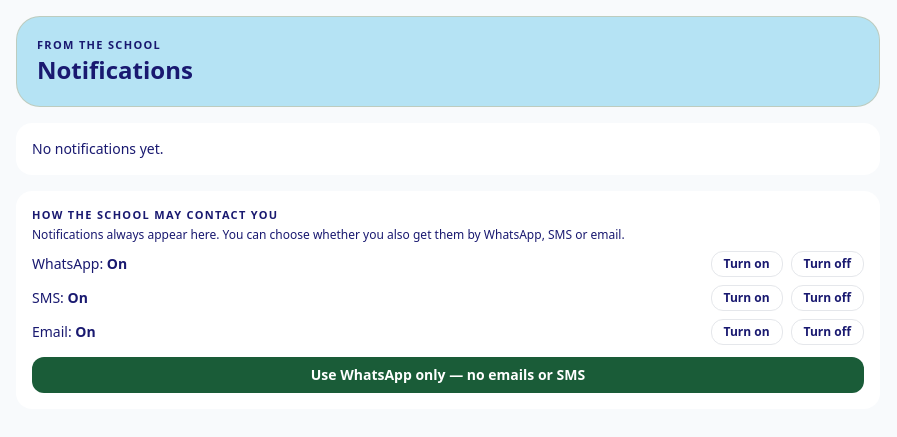
Scenario: a parent can choose WhatsApp only, and the page stays readable
The image size is (897, 437).
What coordinates should you click on to do the following:
click the button "Use WhatsApp only — no emails or SMS"
I would click on:
 (448, 375)
Its box is x1=32 y1=357 x2=864 y2=393.
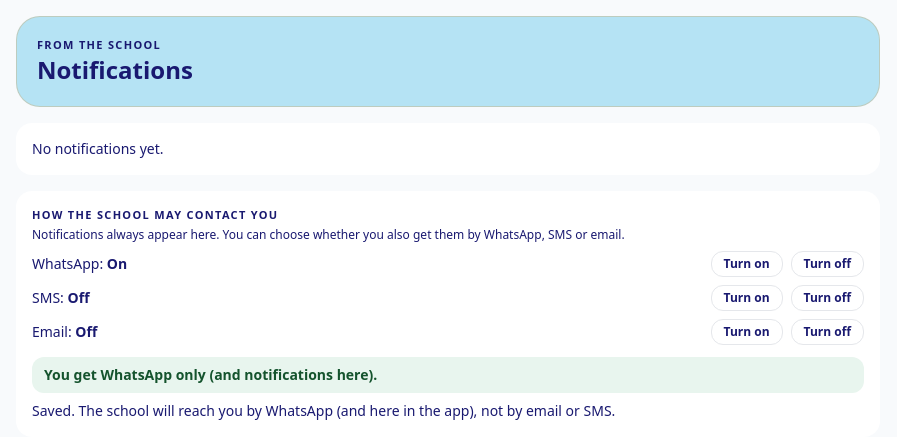
expect the text "You get WhatsApp only (and notifications here)." is shown: met, box x1=32 y1=357 x2=864 y2=393
